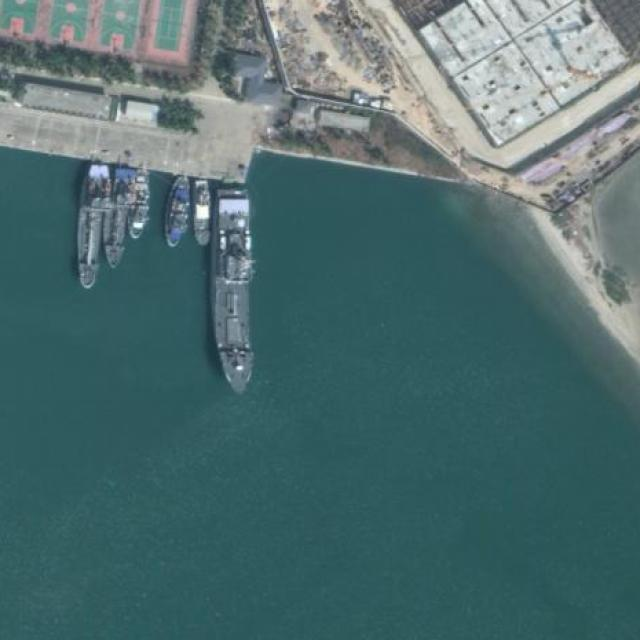Landing: (210, 186, 255, 394), (74, 163, 105, 290), (105, 168, 128, 268)
Other Warship: (160, 175, 192, 248), (129, 171, 149, 239), (192, 179, 211, 246)
